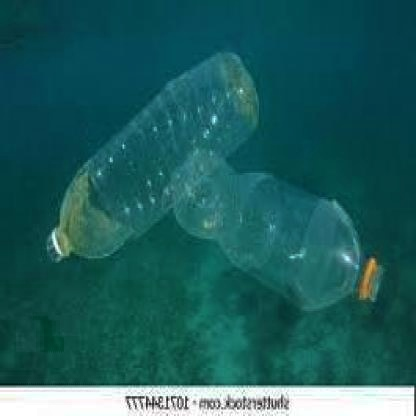pbottle: (36, 41, 267, 276), (166, 138, 385, 326)
